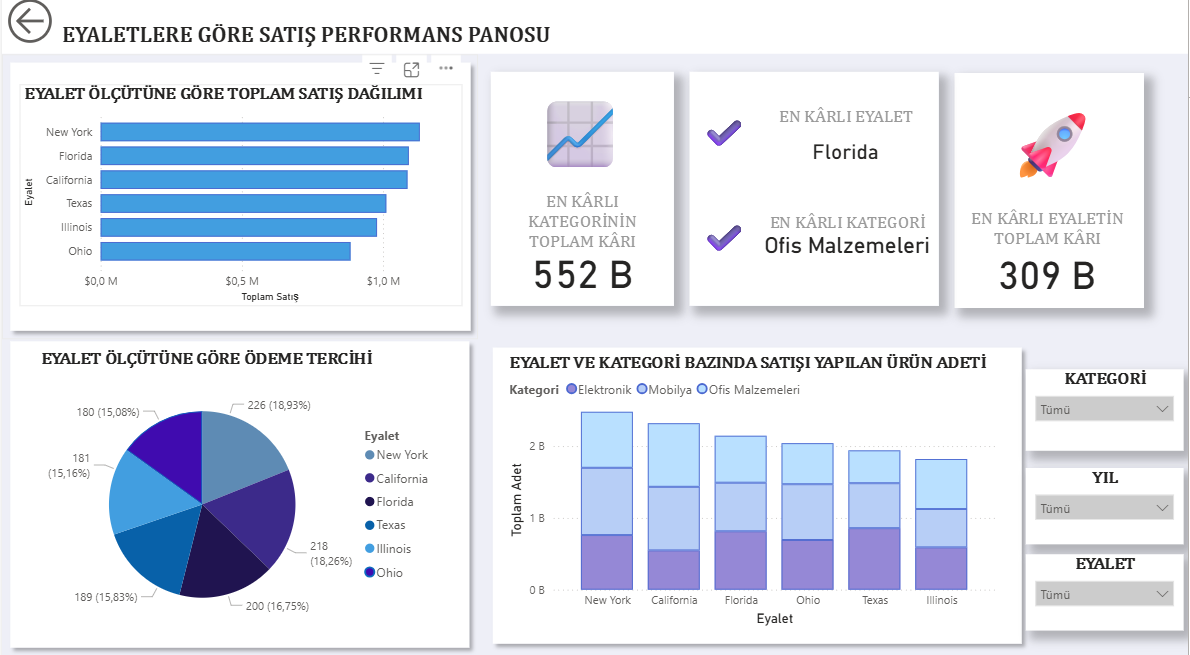

This screenshot's page, from the dashboard's own definition file:
{"tool":"powerbi","page":{"name":"2. sayfa","canvas":[1280,720],"ordinal":1},"visuals":[{"type":"shape","box":[0,60.4,1280.3,654.5],"z":0},{"type":"group","id":"g1","title":"Grup 10","box":[742.4,85.1,269,252.5],"z":0,"group":"g12"},{"type":"group","id":"g2","title":"Grup 6","box":[1027.8,86.4,204.5,253.9],"z":0,"group":"g7"},{"type":"shape","box":[0,0,1280.3,65.9],"z":1000},{"type":"textbox","box":[1078.5,107.7,104.3,108.4],"z":1000,"group":"g7"},{"type":"textbox","box":[748.7,228.2,56.3,67.2],"z":1000,"group":"g12"},{"type":"textbox","box":[59.4,28.3,732.5,56.7],"z":2000},{"type":"textbox","box":[748.9,114.7,76.8,67.2],"z":2000,"group":"g12"},{"type":"shape","box":[520.1,373.2,588.7,337.6],"z":2000,"group":"g5"},{"type":"group","id":"g3","title":"Grup 1","box":[0,65.9,514.6,307.4],"z":3000},{"type":"shape","box":[0,366.4,513.2,348.5],"z":3000,"group":"g4"},{"type":"columnChart","title":"EYALET VE KATEGORİ BAZINDA SATIŞI YAPILAN ÜRÜN ADETİ","fields":{"Category":["Satislar.Eyalet"],"Series":["Satislar.Kategori"],"Y":["Sum(Satislar.Adet)"]},"box":[542.1,388.3,535.2,299.1],"z":3000,"group":"g5"},{"type":"group","id":"g4","title":"Grup 2","box":[0,366.4,513.2,348.5],"z":4000},{"type":"pieChart","title":"EYALET ÖLÇÜTÜNE GÖRE ÖDEME TERCİHİ","fields":{"Category":["Satislar.Eyalet"],"Y":["CountNonNull(Satislar.Ödeme Türü)"]},"box":[36,383.6,437.7,317],"z":4000,"group":"g4"},{"type":"shape","box":[0,65.9,514.6,307.4],"z":4500,"group":"g3"},{"type":"barChart","title":"EYALET ÖLÇÜTÜNE GÖRE TOPLAM SATIŞ DAĞILIMI","fields":{"Category":["Satislar.Eyalet"],"Y":["Satislar.Toplam Satış"]},"box":[19.2,98.8,477.5,240.1],"z":4750,"group":"g3"},{"type":"group","id":"g5","title":"Grup 3","box":[520.1,373.2,588.7,337.6],"z":5000},{"type":"group","id":"g6","title":"Grup 4","box":[526.9,85.1,197.6,252.5],"z":6000},{"type":"group","id":"g7","title":"Grup 8","box":[1027.8,86.4,204.5,253.9],"z":7000},{"type":"group","id":"g8","title":"Grup 9","box":[742.4,85.1,269,252.5],"z":8000},{"type":"slicer","title":"KATEGORİ","fields":{"Values":["Satislar.Kategori"]},"box":[1104.6,406.2,170.2,87.8],"z":9000},{"type":"slicer","title":"YIL","fields":{"Values":["Satislar.Siparişin Verildiği Yıl"]},"box":[1104.6,513.2,170.2,82.3],"z":10000},{"type":"group","id":"g9","title":"Grup 5","box":[526.9,85.1,197.6,252.5],"z":10002,"group":"g6"},{"type":"group","id":"g10","title":"Grup 5","box":[742.4,85.1,269,252.5],"z":10002,"group":"g1"},{"type":"group","id":"g11","title":"Grup 7","box":[1027.8,86.4,204.5,253.9],"z":10002,"group":"g2"},{"type":"slicer","title":"EYALET","fields":{"Values":["Satislar.Eyalet"]},"box":[1104.6,605.1,170.2,82.3],"z":11000},{"type":"card","title":"EN KÂRLI EYALET","fields":{"Values":["Satislar.maxkarbolge"]},"box":[822.4,122.5,178.4,78.2],"z":11503,"group":"g1"},{"type":"actionButton","box":[0,0,119.4,60.4],"z":12000},{"type":"shape","box":[526.9,85.1,197.6,252.5],"z":12003,"group":"g9"},{"type":"shape","box":[742.4,85.1,269,252.5],"z":12003,"group":"g10"},{"type":"shape","box":[1027.8,86.4,204.5,253.9],"z":12003,"group":"g11"},{"type":"card","title":"EN KÂRLI KATEGORİNİN TOPLAM KÂRI","fields":{"Values":["Satislar.maxkar"]},"box":[531.6,214.8,189.4,113.9],"z":12503,"group":"g9"},{"type":"card","title":"EN KÂRLI EYALETİN TOPLAM KÂRI","fields":{"Values":["Satislar.maxkarıgetirenbölge"]},"box":[1029.2,233.1,197.6,97.4],"z":12503,"group":"g11"},{"type":"textbox","box":[569.4,96.4,124.9,112.5],"z":13004,"group":"g6"},{"type":"group","id":"g12","title":"Grup 11","box":[742.4,85.1,269,252.5],"z":13005,"group":"g8"},{"type":"card","title":"EN KÂRLI KATEGORİ","fields":{"Values":["Satislar.Top Category By Profit"]},"box":[814.7,237.6,194.9,49.4],"z":13505,"group":"g8"}]}

Visuals, with their boxes in screenshot pixels (x1, y1, x2, y2), scaled from the page's 1280x720 canvas onto the 1190x655 screenshot:
shape: 0/55/1189/650
"Grup 10" group: 690/77/940/307
"Grup 6" group: 956/79/1146/310
shape: 0/0/1189/60
textbox: 1003/98/1100/197
textbox: 696/208/748/269
textbox: 55/26/736/77
textbox: 696/104/768/165
shape: 484/340/1031/647
"Grup 1" group: 0/60/478/340
shape: 0/333/477/650
"EYALET VE KATEGORİ BAZINDA SATIŞI YAPILAN ÜRÜN ADETİ" columnChart: 504/353/1002/625
"Grup 2" group: 0/333/477/650
"EYALET ÖLÇÜTÜNE GÖRE ÖDEME TERCİHİ" pieChart: 33/349/440/637
shape: 0/60/478/340
"EYALET ÖLÇÜTÜNE GÖRE TOPLAM SATIŞ DAĞILIMI" barChart: 18/90/462/308
"Grup 3" group: 484/340/1031/647
"Grup 4" group: 490/77/674/307
"Grup 8" group: 956/79/1146/310
"Grup 9" group: 690/77/940/307
"KATEGORİ" slicer: 1027/370/1185/449
"YIL" slicer: 1027/467/1185/542
"Grup 5" group: 490/77/674/307
"Grup 5" group: 690/77/940/307
"Grup 7" group: 956/79/1146/310
"EYALET" slicer: 1027/550/1185/625
"EN KÂRLI EYALET" card: 765/111/930/183
actionButton: 0/0/111/55
shape: 490/77/674/307
shape: 690/77/940/307
shape: 956/79/1146/310
"EN KÂRLI KATEGORİNİN TOPLAM KÂRI" card: 494/195/670/299
"EN KÂRLI EYALETİN TOPLAM KÂRI" card: 957/212/1141/301
textbox: 529/88/645/190
"Grup 11" group: 690/77/940/307
"EN KÂRLI KATEGORİ" card: 757/216/939/261
